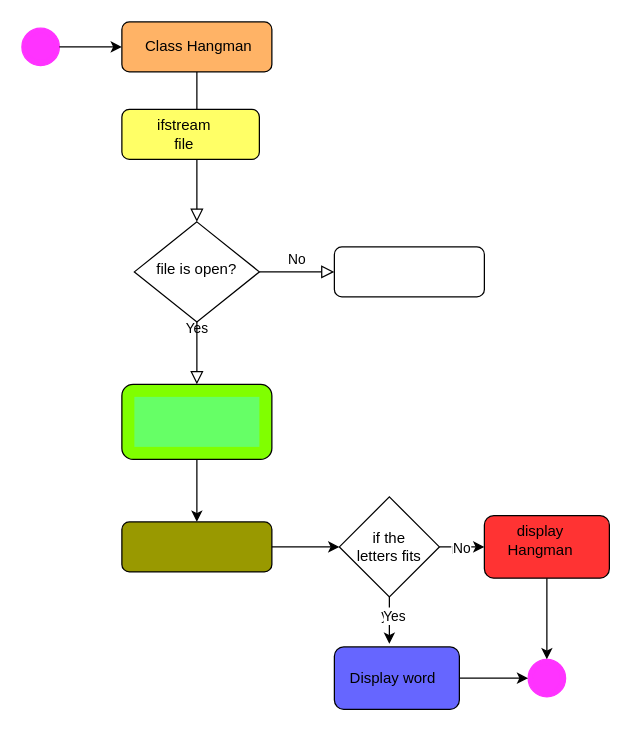
Some shapes in this 631 by 731 pixel diagram are drawn without their labels. Each missing label, with the centre of its shape:
cerr: (408,271)
fill random words: (196,421)
Guess the letter: (196,546)
